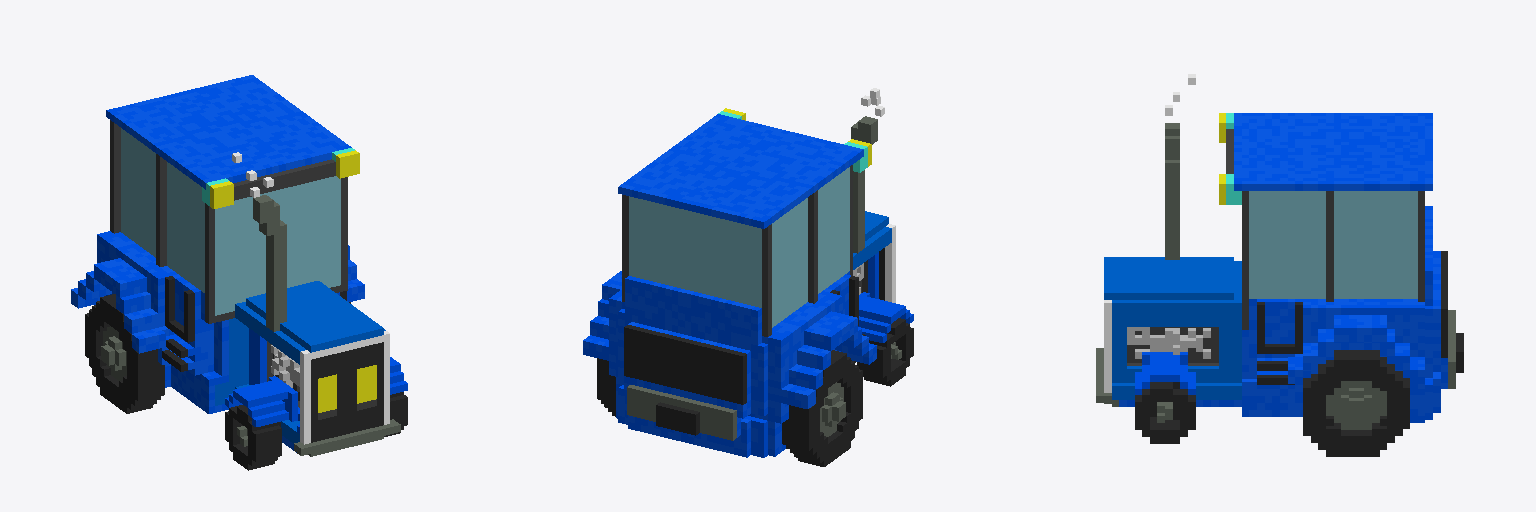
The picture shows the model from 3 angles: view 1: azimuth 30°, elevation 25°; view 2: azimuth 150°, elevation 25°; view 3: azimuth 270°, elevation 25°; orthographic projection.
Parts seen in each view (by area): view 1: object 1; view 2: object 1; view 3: object 1.
Boxes of the visible parts, <box> form: object 1: <box>71,75,407,470</box>; object 1: <box>583,88,913,466</box>; object 1: <box>1096,74,1463,456</box>.
Size of the model in its own units: 3.4 by 4.3 by 4.8.
Materials: 1 (1 with a texture image).